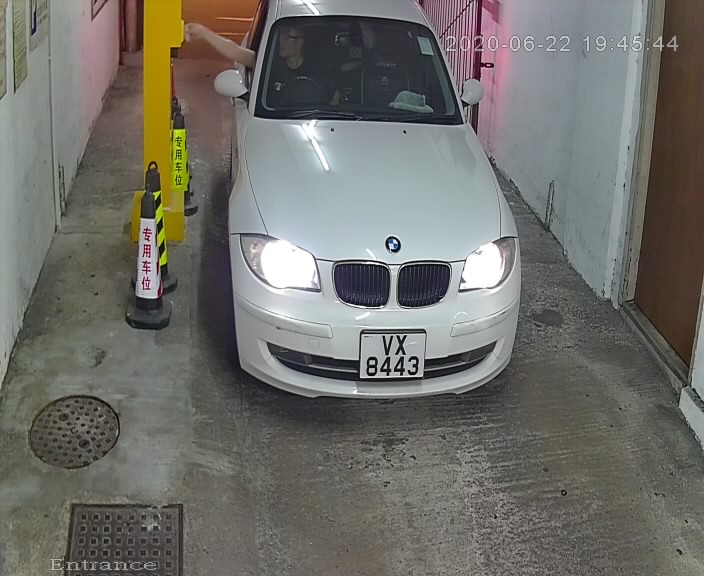privatecar: (187, 2, 548, 443)
